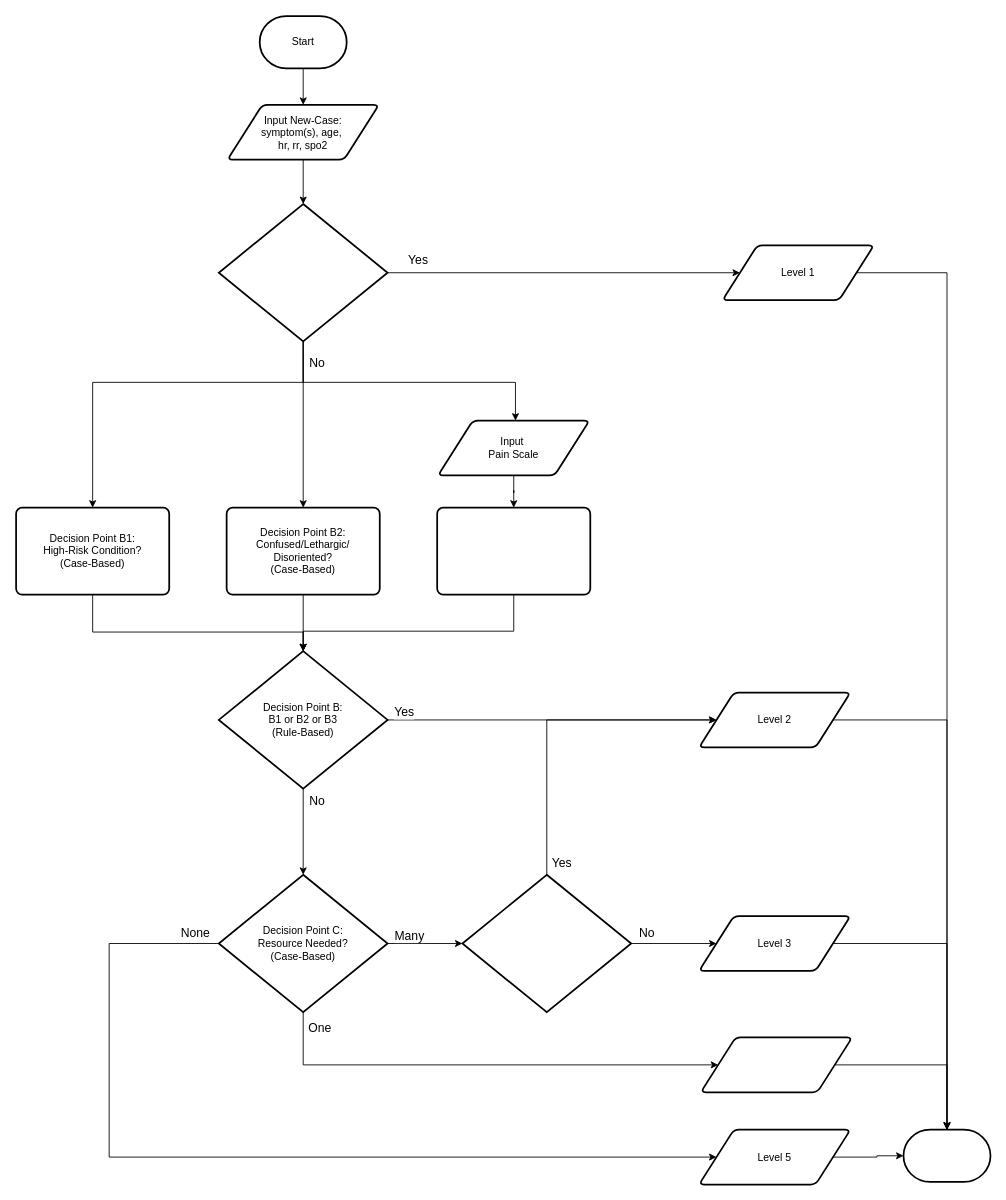
Some shapes in this 1006 by 1200 pixel diagram are drawn without their labels. Here are the shapes that lost their labels. From the top down, the centre of each, then its label:
At [303,272]: "Decision Point A: Requires Immediate Life-Saving? (Case-Based)".
At [513,550]: "Decision Point B3: Pain-scale? (Rule-Based)".
At [546,943]: "Decision Point D: High Risk Vital Sign? (Rule-Based)".
At [776,1064]: "Level 4".
At [946,1155]: "Stop".
